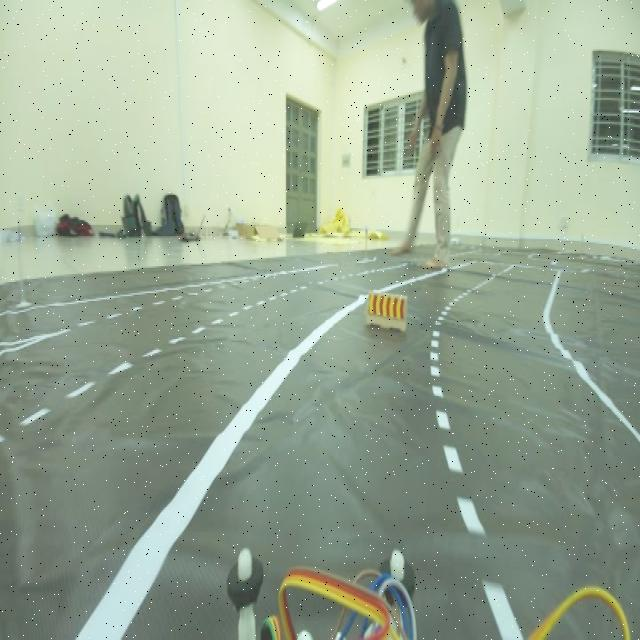roadblock: (363, 284, 412, 329)
